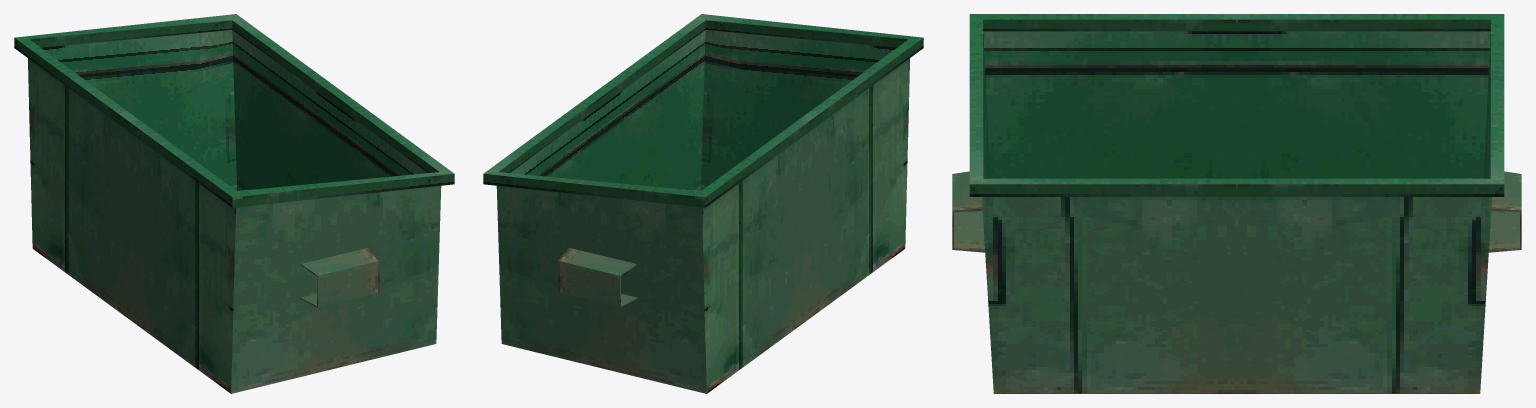
The model's file is dumpster_diagonal_empty_no_lid.glb.
3 views of the same model, side by side, from view 1: azimuth 30°, elevation 25°; view 2: azimuth 150°, elevation 25°; view 3: azimuth 270°, elevation 25° (orthographic). The views are drawn at different scales.
Visible parts, largest first — view 1: dumpster_diagonal_empty_no_lid; view 2: dumpster_diagonal_empty_no_lid; view 3: dumpster_diagonal_empty_no_lid.
Part boxes in pixels (x1=…): dumpster_diagonal_empty_no_lid: x1=14, y1=14, x2=454, y2=393; dumpster_diagonal_empty_no_lid: x1=483, y1=14, x2=923, y2=393; dumpster_diagonal_empty_no_lid: x1=952, y1=14, x2=1521, y2=393.
Size of the model in its own units: 2.03 by 1.8 by 3.67.
Materials: 1 (1 with a texture image).
